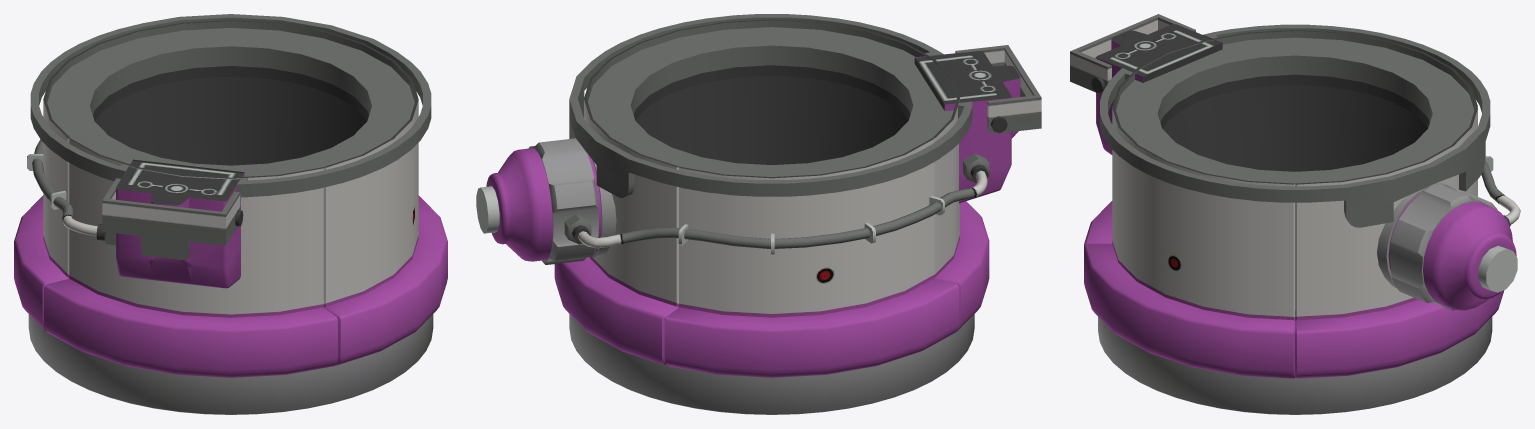
File: gel_purple.glb
3 views of the same model, side by side, from view 1: azimuth 30°, elevation 25°; view 2: azimuth 150°, elevation 25°; view 3: azimuth 270°, elevation 25° (orthographic). The views are drawn at different scales.
Parts seen in each view (by area): view 1: EDITOR_paint_dropper.004; view 2: EDITOR_paint_dropper.004; view 3: EDITOR_paint_dropper.004.
Boxes of the visible parts, <box> form: EDITOR_paint_dropper.004: <box>14,14,447,414</box>; EDITOR_paint_dropper.004: <box>476,14,1041,414</box>; EDITOR_paint_dropper.004: <box>1070,14,1520,414</box>.
Size of the model in its own units: 1.52 by 0.894 by 1.54.
1 material, 1 textured.
